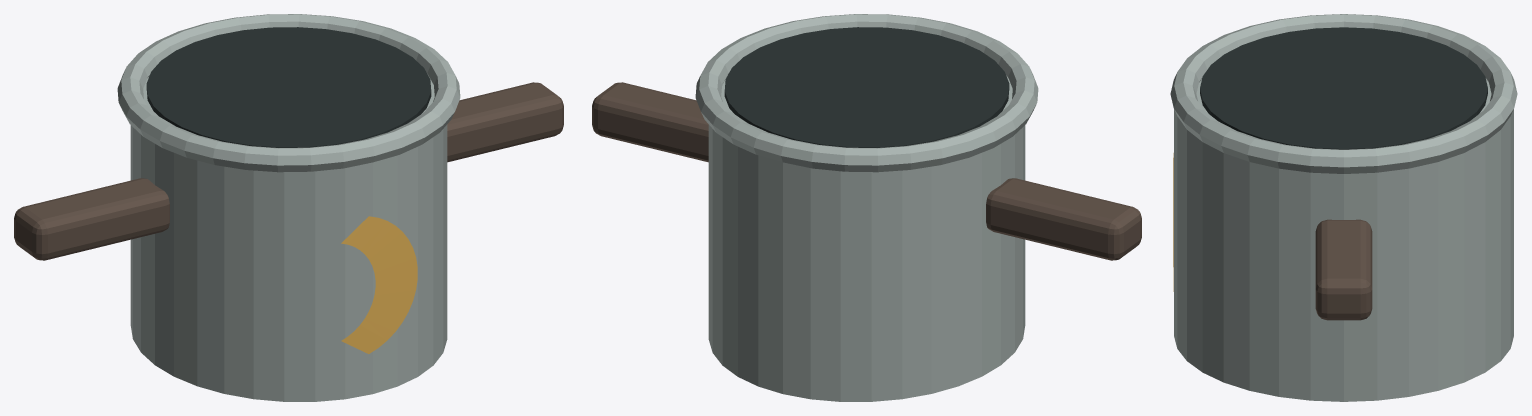
File: pot-moon-v1-C6wcHHlo.glb
The picture shows the model from 3 angles, left to right: view 1: azimuth 30°, elevation 25°; view 2: azimuth 150°, elevation 25°; view 3: azimuth 270°, elevation 25°; orthographic projection.
Visible parts, largest first — view 1: Pot body, Visible dark interior, Open rim, Side handle, Side handle.001, Half moon dent; view 2: Pot body, Visible dark interior, Open rim, Side handle, Side handle.001; view 3: Pot body, Visible dark interior, Open rim, Side handle.001.
Boxes of the visible parts, bbox=[...] form: Pot body: bbox=[130, 75, 447, 401]; Visible dark interior: bbox=[146, 27, 431, 147]; Open rim: bbox=[117, 14, 460, 172]; Side handle: bbox=[14, 178, 169, 260]; Side handle.001: bbox=[447, 82, 563, 162]; Half moon dent: bbox=[341, 216, 417, 353]; Pot body: bbox=[708, 75, 1025, 401]; Visible dark interior: bbox=[724, 27, 1009, 147]; Open rim: bbox=[695, 14, 1038, 172]; Side handle: bbox=[986, 178, 1141, 260]; Side handle.001: bbox=[592, 82, 708, 162]; Pot body: bbox=[1174, 79, 1513, 401]; Visible dark interior: bbox=[1200, 27, 1487, 149]; Open rim: bbox=[1170, 14, 1517, 173]; Side handle.001: bbox=[1315, 219, 1372, 320].
Bounding box in the file's own units: 2.62 × 1.18 × 1.47.
